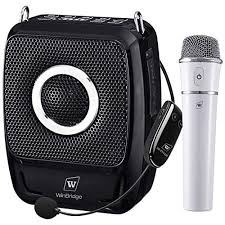microphone: (172, 33, 225, 217)
speaker: (1, 5, 164, 220)
